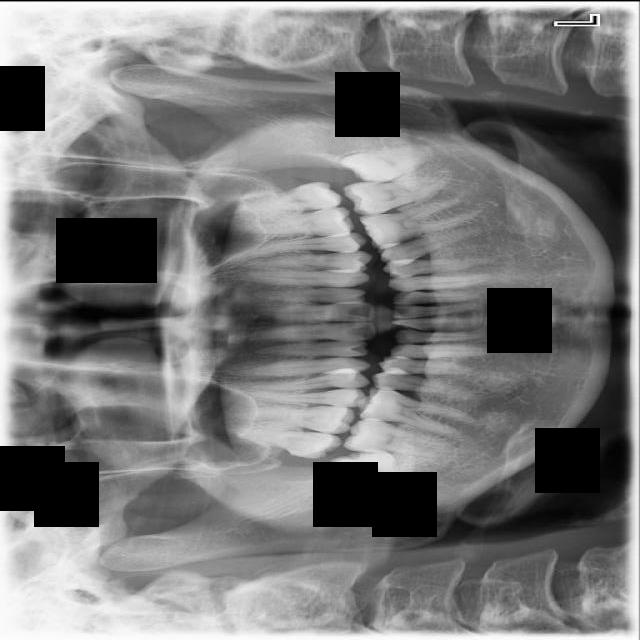73: (564, 22, 578, 26)
BioHorizons Implant: (228, 178, 344, 219)
Biomet 3i Implant: (339, 139, 435, 189)
Blue Sky Bio Implant: (342, 176, 451, 217)
Caries: (221, 419, 344, 462)
Implant: (342, 414, 456, 459)
Keystone Dental Implant: (326, 428, 418, 503)
